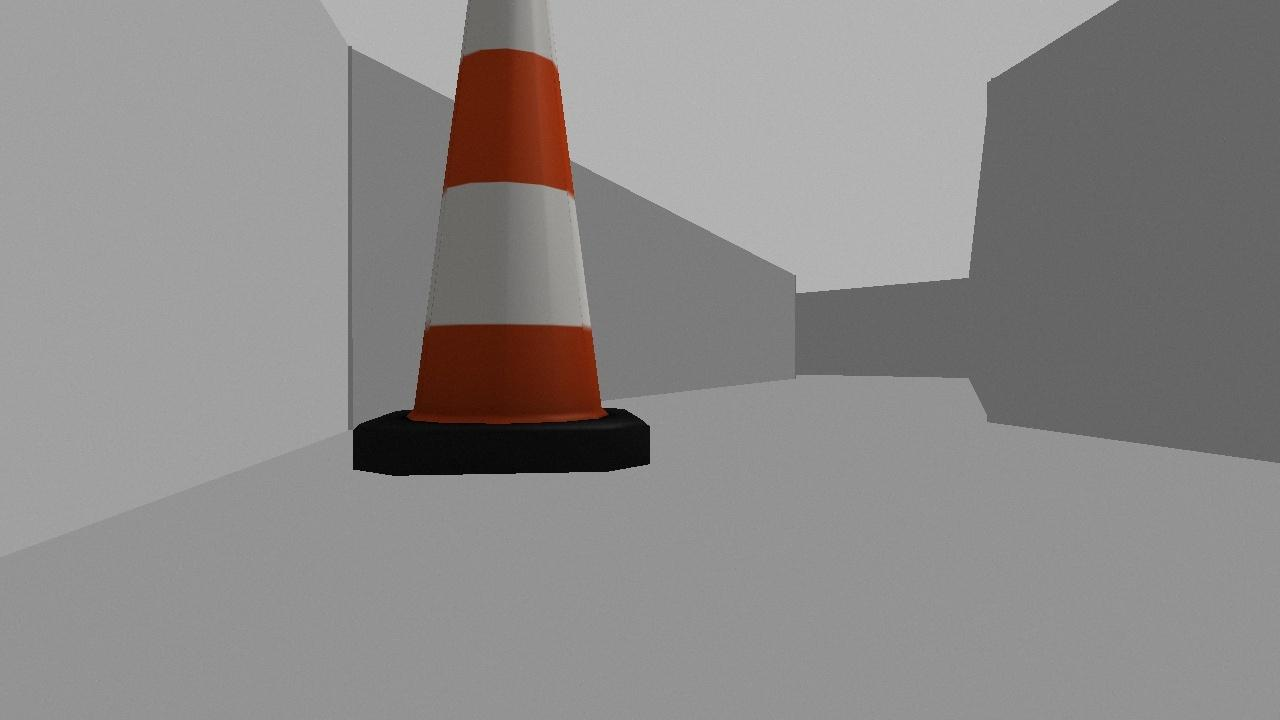cone_barrel: (328, 0, 671, 482)
